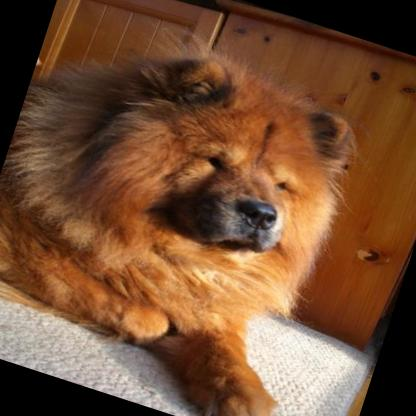chow: (0, 0, 389, 416)
